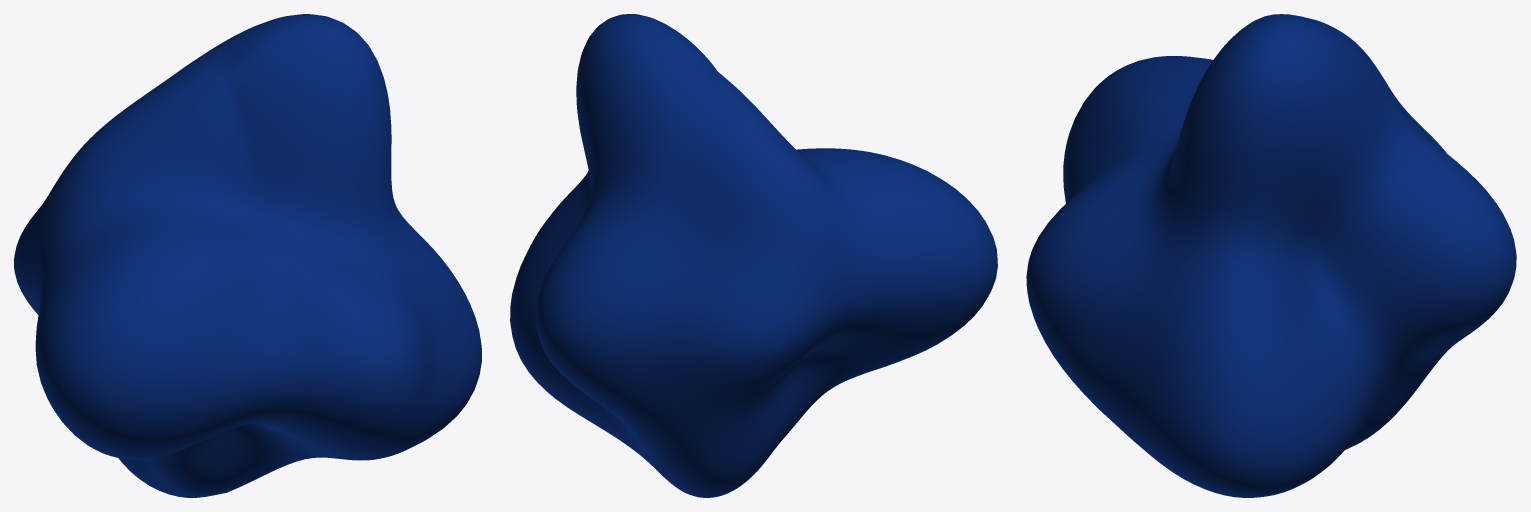
File: blob3.glb
3 renders of one model, left to right at view 1: azimuth 30°, elevation 25°; view 2: azimuth 150°, elevation 25°; view 3: azimuth 270°, elevation 25°, orthographic. The views are drawn at different scales.
Visible parts, largest first — view 1: Sphere; view 2: Sphere; view 3: Sphere.
Boxes of the visible parts, bbox=[...] form: Sphere: bbox=[14, 14, 481, 497]; Sphere: bbox=[510, 14, 997, 497]; Sphere: bbox=[1026, 14, 1516, 497].
Bounding box in the file's own units: 2.39 × 2.29 × 2.15.
